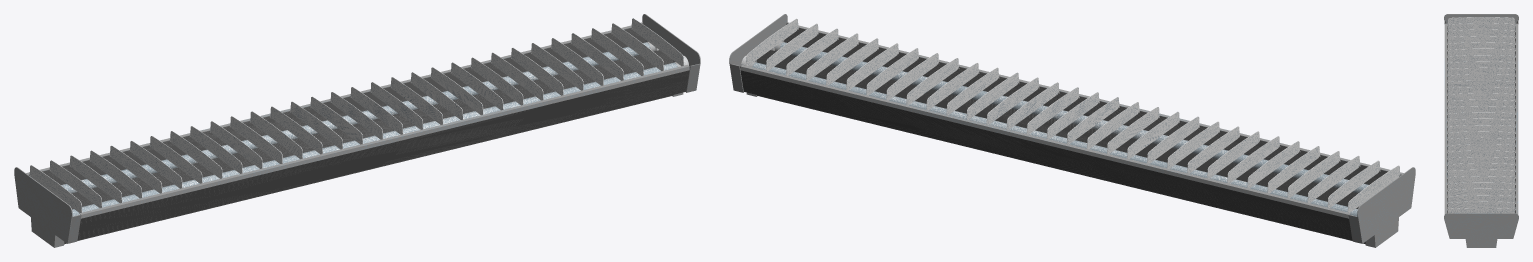
File: CeilingLamp.fbx
3 views of the same model, side by side, from view 1: azimuth 30°, elevation 25°; view 2: azimuth 150°, elevation 25°; view 3: azimuth 270°, elevation 25° (orthographic). The views are drawn at different scales.
Visible parts, largest first — view 1: Cap1, Slot_Frame2, Tube_Light2, Frame_Side_Cap1, Tube_Light1, Frame_Side_Cap2, Slot_Frame1, Slot22, Slot4, Slot15, Slot24, Slot27 (+26 smaller); view 2: Cap1, Slot_Frame1, Tube_Light1, Frame_Side_Cap1, Tube_Light2, Frame_Side_Cap2, Slot_Frame2, Slot9, Slot29, Slot2, Slot7, Slot22 (+26 smaller); view 3: Frame_Side_Cap2, Slot_Frame1, Slot_Frame2, Slot6, Slot17, Slot28, Slot2, Slot3, Slot15, Slot20, Slot8, Slot14 (+24 smaller).
Part boxes in pixels (box(x1,y1,x2,y2)): Cap1: box(28, 23, 690, 244); Slot_Frame2: box(79, 65, 689, 218); Tube_Light2: box(72, 62, 680, 216); Frame_Side_Cap1: box(14, 167, 81, 247); Tube_Light1: box(61, 41, 655, 193); Frame_Side_Cap2: box(641, 14, 700, 96); Slot_Frame1: box(26, 25, 631, 174); Slot22: box(450, 62, 503, 110); Slot4: box(210, 121, 262, 168); Slot15: box(129, 141, 182, 188); Slot24: box(491, 52, 543, 100); Slot27: box(551, 38, 603, 85); Cap1: box(740, 23, 1401, 244); Slot_Frame1: box(740, 65, 1350, 218); Tube_Light1: box(748, 61, 1357, 216); Frame_Side_Cap1: box(1348, 167, 1415, 247); Tube_Light2: box(774, 41, 1368, 193); Frame_Side_Cap2: box(729, 14, 789, 96); Slot_Frame2: box(798, 25, 1403, 174); Slot9: box(1227, 136, 1280, 183); Slot29: box(786, 28, 838, 75); Slot2: box(1147, 116, 1199, 163); Slot7: box(1127, 111, 1179, 158); Slot22: box(926, 63, 979, 109); Frame_Side_Cap2: box(1444, 213, 1518, 247); Slot_Frame1: box(1515, 23, 1518, 214); Slot_Frame2: box(1444, 23, 1447, 214); Slot6: box(1447, 67, 1515, 76); Slot17: box(1447, 118, 1515, 127); Slot28: box(1447, 188, 1515, 197); Slot2: box(1447, 80, 1515, 89); Slot3: box(1447, 99, 1515, 108); Slot15: box(1447, 48, 1515, 57); Slot20: box(1447, 137, 1515, 146); Slot8: box(1447, 61, 1515, 70); Slot14: box(1447, 29, 1515, 38).
Bounding box in the file's own units: 48.06 × 4 × 7.62.
